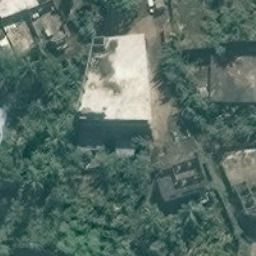buildings: (71, 35, 156, 130), (158, 158, 212, 207), (210, 54, 256, 107), (223, 145, 256, 213), (1, 1, 47, 16), (82, 164, 104, 185), (68, 142, 79, 153)
